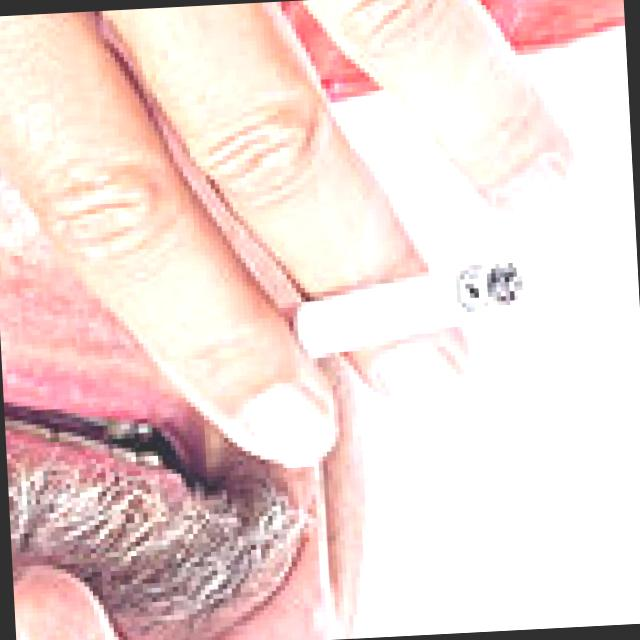cigarette: (243, 227, 546, 410)
